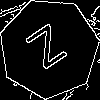Z: (24, 23, 75, 78)
